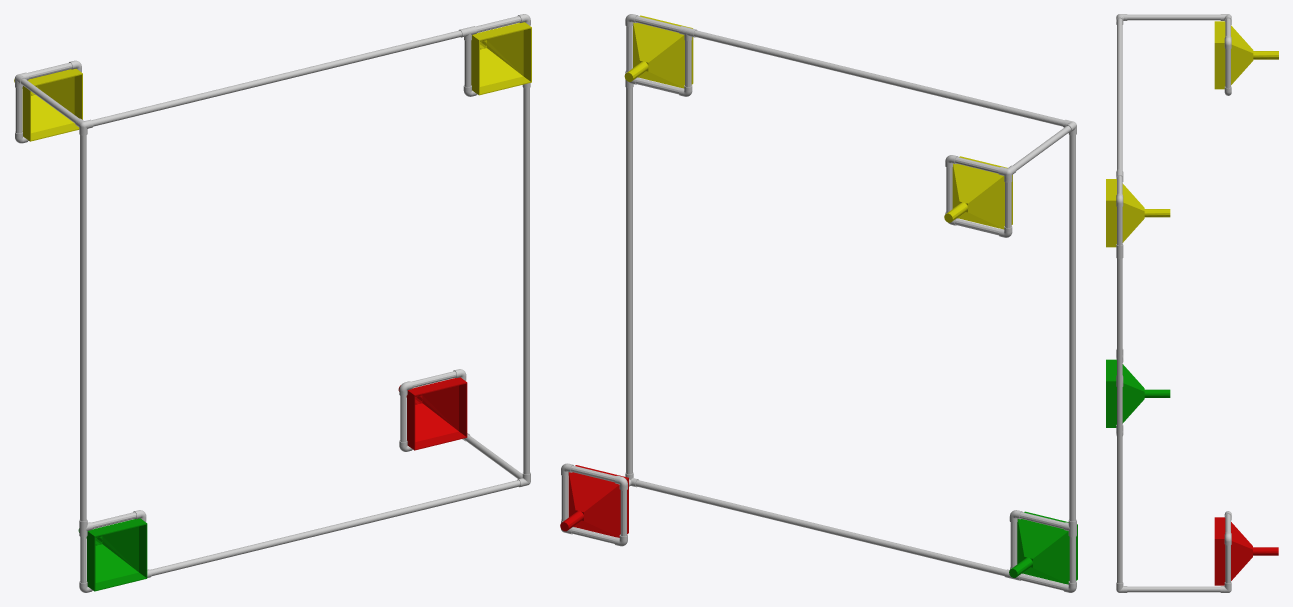
Rendered from Cash_In.obj.
3 renders of one model, left to right at view 1: azimuth 30°, elevation 25°; view 2: azimuth 150°, elevation 25°; view 3: azimuth 270°, elevation 25°, orthographic. The views are drawn at different scales.
Visible parts, largest first — view 1: Shape_IndexedFaceSet.043, Shape_IndexedFaceSet.028, Shape_IndexedFaceSet.027, Shape_IndexedFaceSet.026, Shape_IndexedFaceSet.021, Shape_IndexedFaceSet.035, Shape_IndexedFaceSet.036, Shape_IndexedFaceSet.033; view 2: Shape_IndexedFaceSet.043, Shape_IndexedFaceSet.027, Shape_IndexedFaceSet.026, Shape_IndexedFaceSet.028, Shape_IndexedFaceSet.021, Shape_IndexedFaceSet.035, Shape_IndexedFaceSet.036, Shape_IndexedFaceSet.033; view 3: Shape_IndexedFaceSet.033, Shape_IndexedFaceSet.026, Shape_IndexedFaceSet.043, Shape_IndexedFaceSet.028, Shape_IndexedFaceSet.027, Shape_IndexedFaceSet.035, Shape_IndexedFaceSet.025, Shape_IndexedFaceSet.002.
Boxes of the visible parts, x1,y1,x2,y2 form: Shape_IndexedFaceSet.043: (398,377,467,450); Shape_IndexedFaceSet.028: (78,518,147,591); Shape_IndexedFaceSet.027: (471,22,531,95); Shape_IndexedFaceSet.026: (14,68,82,141); Shape_IndexedFaceSet.021: (150,480,520,575); Shape_IndexedFaceSet.035: (92,30,462,126); Shape_IndexedFaceSet.036: (80,135,86,521); Shape_IndexedFaceSet.033: (523,88,529,474); Shape_IndexedFaceSet.043: (560,465,628,537); Shape_IndexedFaceSet.027: (624,15,693,88); Shape_IndexedFaceSet.026: (944,156,1012,229); Shape_IndexedFaceSet.028: (1009,511,1077,584); Shape_IndexedFaceSet.021: (635,480,1005,576); Shape_IndexedFaceSet.035: (694,30,1064,126); Shape_IndexedFaceSet.036: (1069,135,1075,521); Shape_IndexedFaceSet.033: (626,88,632,474); Shape_IndexedFaceSet.033: (1117,258,1122,583); Shape_IndexedFaceSet.026: (1214,21,1278,89); Shape_IndexedFaceSet.043: (1214,517,1278,585); Shape_IndexedFaceSet.028: (1106,359,1170,427); Shape_IndexedFaceSet.027: (1106,179,1170,247); Shape_IndexedFaceSet.035: (1117,18,1122,169); Shape_IndexedFaceSet.025: (1127,14,1220,20); Shape_IndexedFaceSet.002: (1127,586,1220,592).
Bounding box in the file's own units: 2.6 × 2.6 × 1.03.
